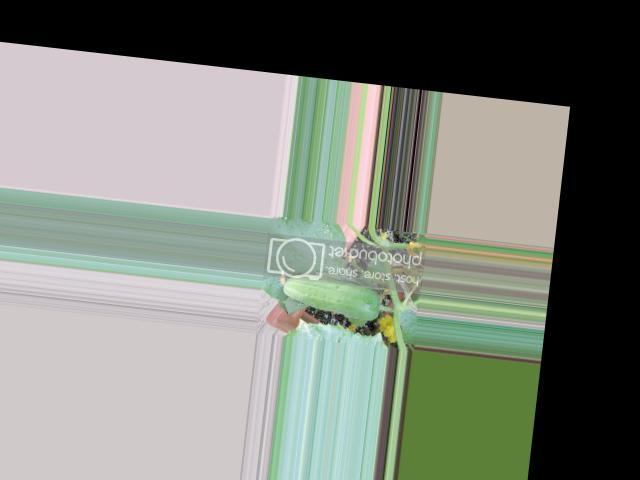cucumber: (279, 271, 381, 321)
